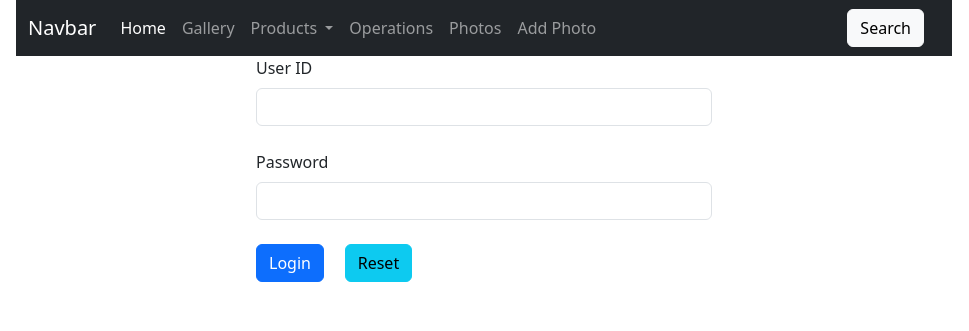
Test: template spec › Valid password
Type "john" into the field. click: (484, 107)
box: [256,88,712,126]
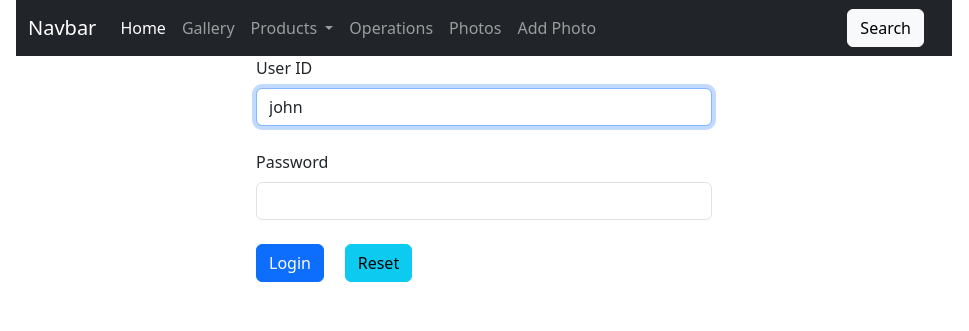
Type "123" into the password field. click: (484, 201)
box: [256,182,712,220]
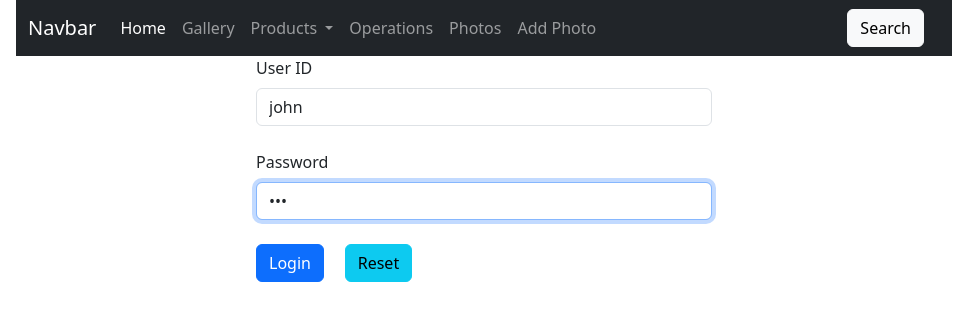
Click the button with id "login". click: (290, 263)
box: [256,244,324,282]
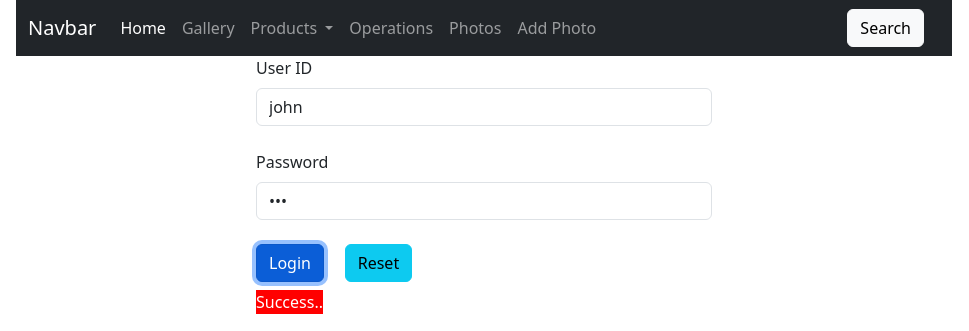
Now the label with id "lbl" reads "Success..", box [256,290,323,314]
